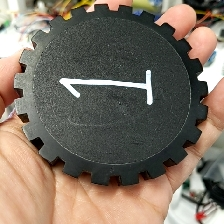gear: (12, 2, 209, 188)
